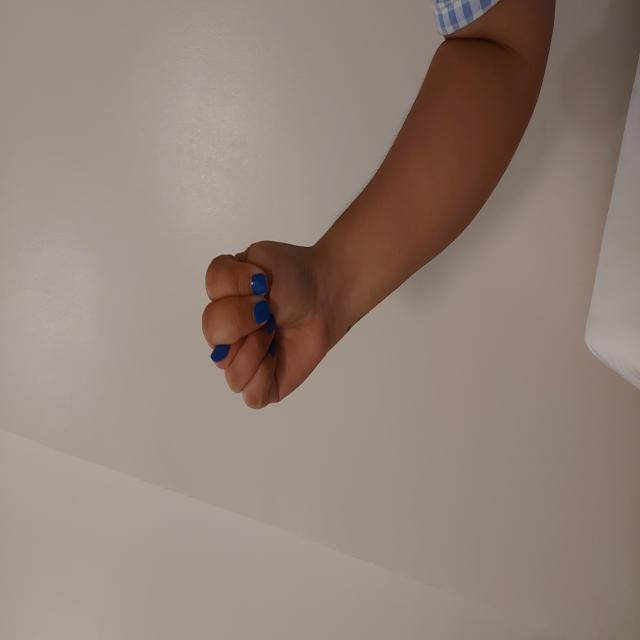N: (229, 200, 401, 332)
